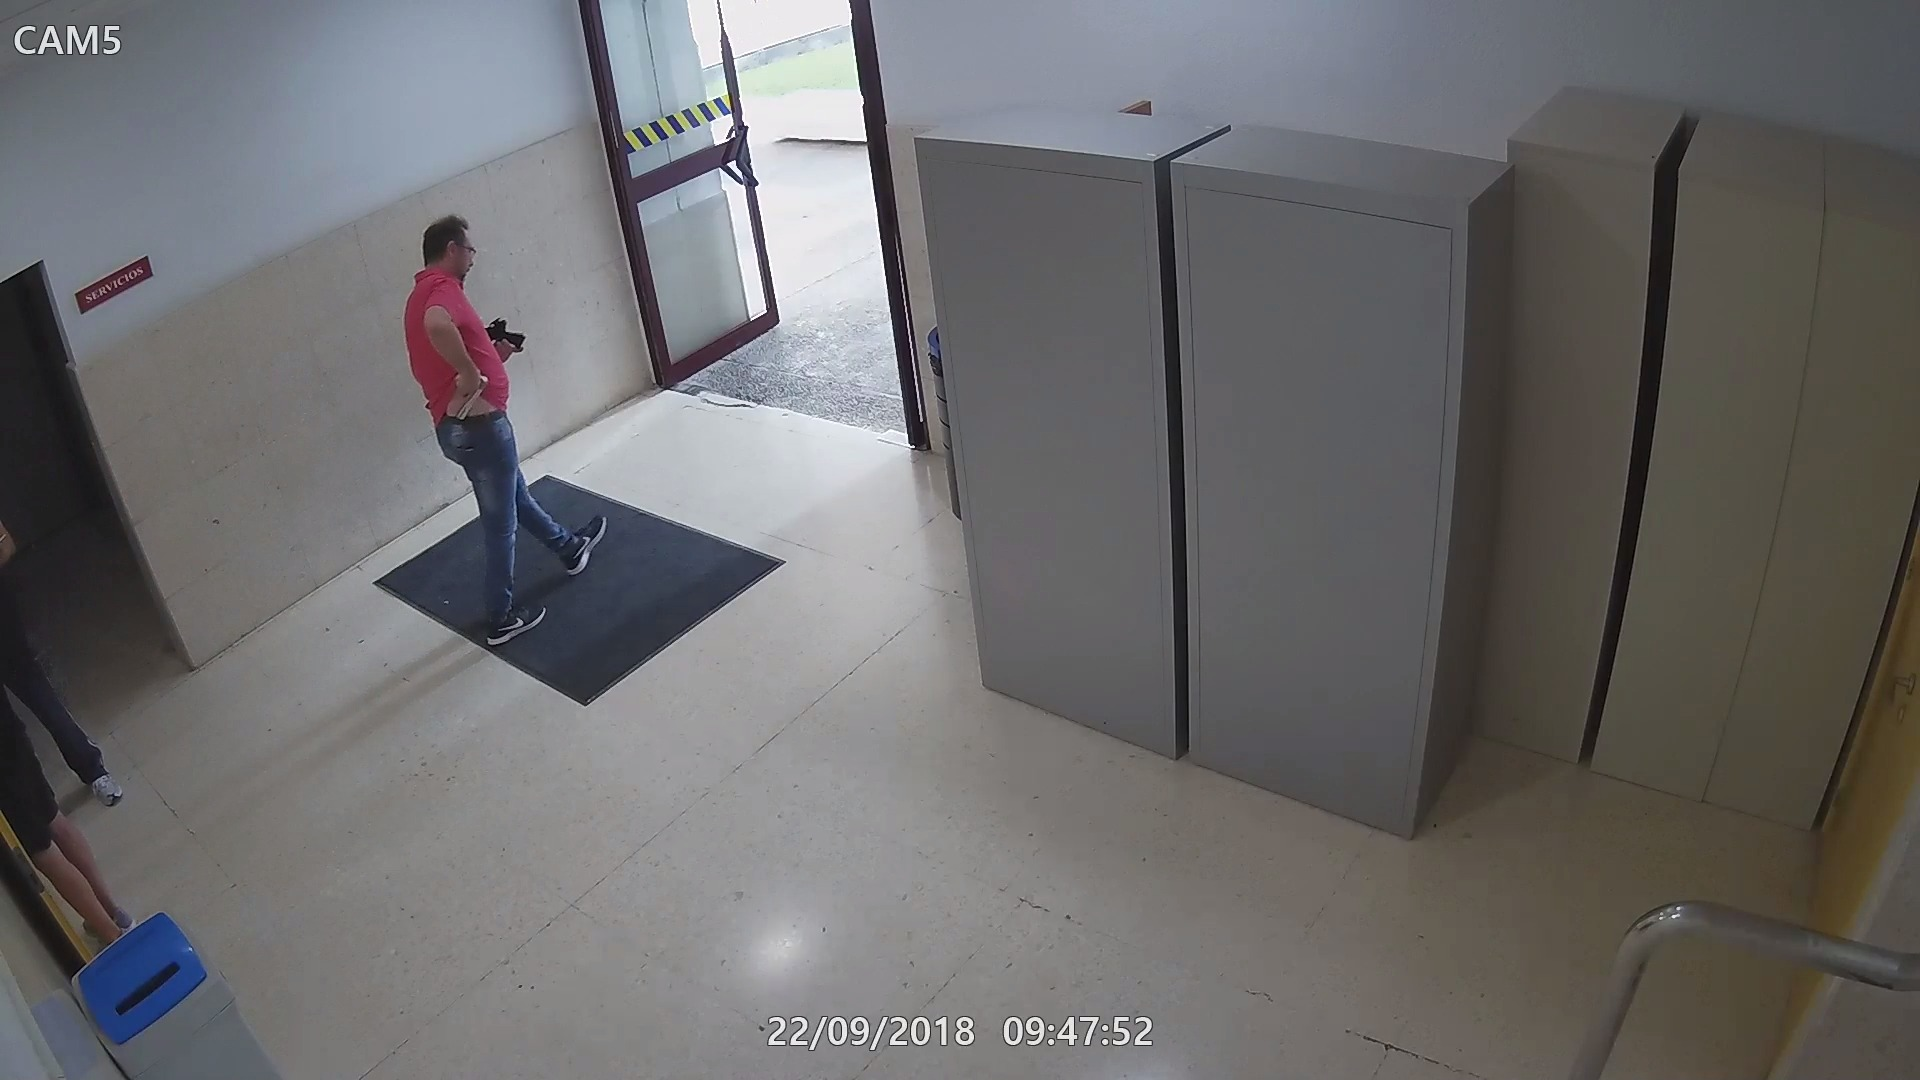Handgun: (444, 368, 487, 429)
Short_rifle: (483, 313, 527, 353)
